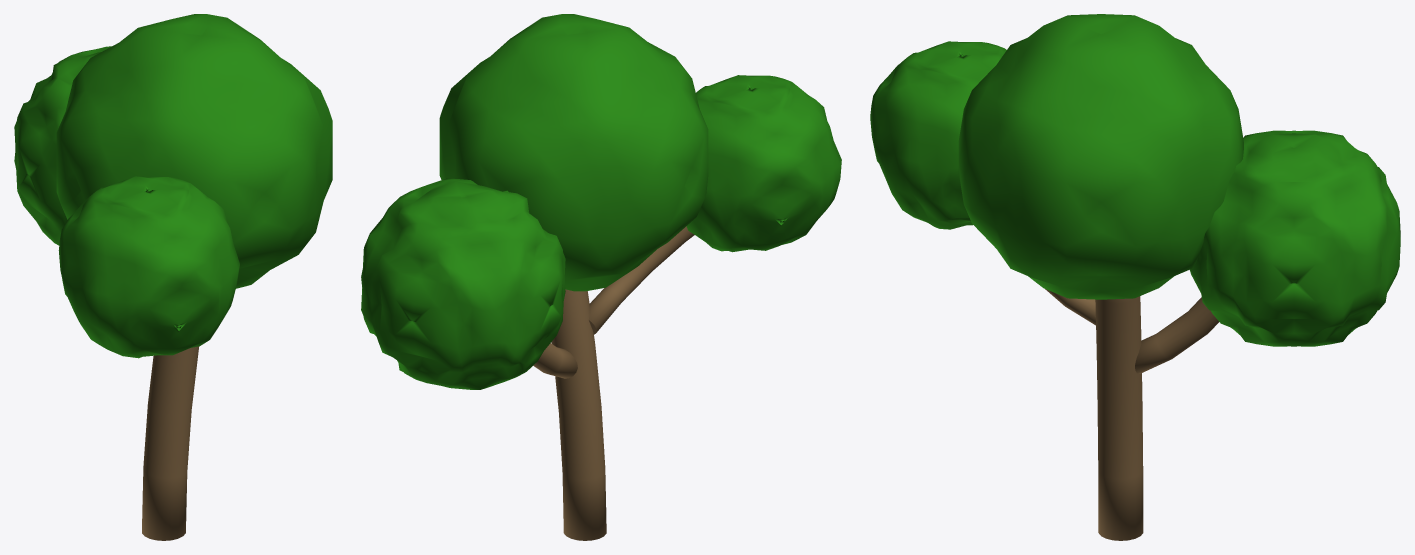
File: baum3.dae
3 renders of one model, left to right at view 1: azimuth 30°, elevation 25°; view 2: azimuth 150°, elevation 25°; view 3: azimuth 270°, elevation 25°, orthographic. The views are drawn at different scales.
Parts seen in each view (by area): view 1: Geosph_re002, Geosph_re001, Zylinder001, Geosph_re003; view 2: Geosph_re002, Geosph_re003, Geosph_re001, Zylinder001, Zylinder003, Zylinder002; view 3: Geosph_re002, Geosph_re003, Geosph_re001, Zylinder001, Zylinder002, Zylinder003.
Boxes of the visible parts, x1,y1,x2,y2 form: Geosph_re002: (56, 14, 332, 288); Geosph_re001: (58, 176, 239, 358); Zylinder001: (142, 346, 199, 540); Geosph_re003: (14, 46, 111, 245); Geosph_re002: (439, 14, 708, 291); Geosph_re003: (361, 178, 565, 389); Geosph_re001: (686, 75, 841, 252); Zylinder001: (551, 289, 606, 540); Zylinder003: (588, 226, 694, 334); Zylinder002: (533, 343, 577, 378); Geosph_re002: (958, 14, 1243, 299); Geosph_re003: (1190, 130, 1400, 346); Geosph_re001: (870, 41, 1006, 229); Zylinder001: (1095, 296, 1143, 540); Zylinder002: (1135, 297, 1218, 373); Zylinder003: (1045, 289, 1095, 325).
Bounding box in the file's own units: 1.44 × 2.07 × 2.21.
